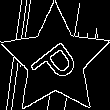P_NE: (25, 31, 85, 90)
